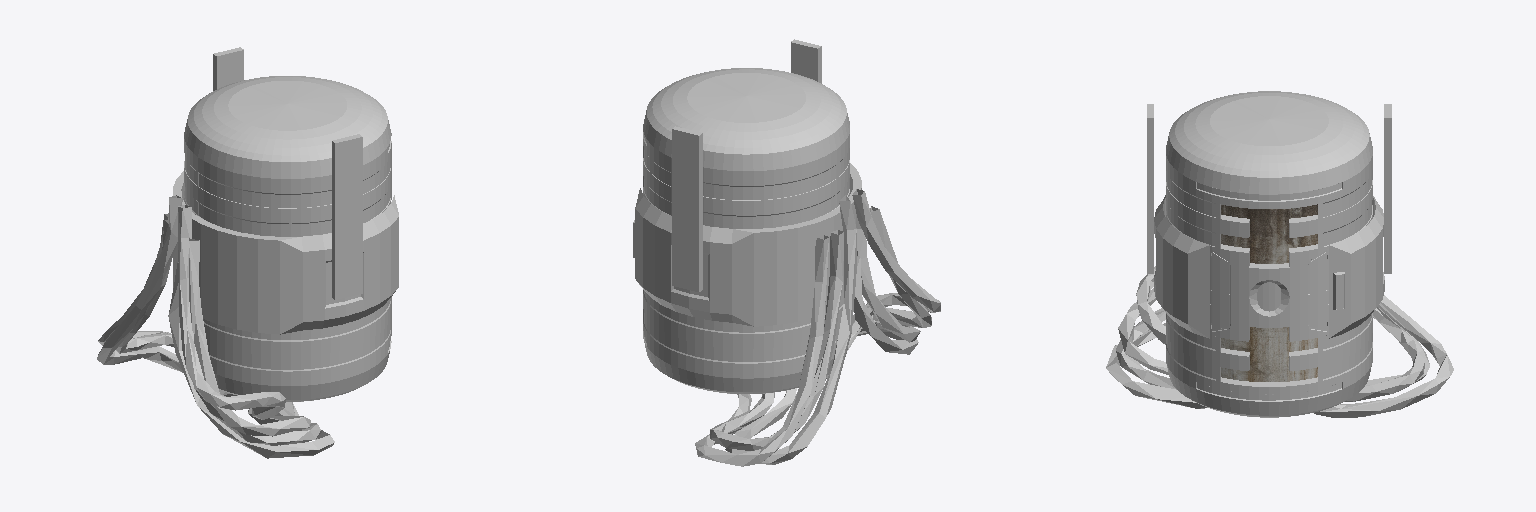
3 views of the same model, side by side, from view 1: azimuth 30°, elevation 25°; view 2: azimuth 150°, elevation 25°; view 3: azimuth 270°, elevation 25° (orthographic).
Visible parts, largest first — view 1: ShieldingCapsule_ShieldingCapsuleMesh, CircleSupport_CircleSupportMesh, VerticalSupport, Hosepipe3_HosepipeMesh3, Hosepipe4_HosepipeMesh4, Hosepipe2_HosepipeMesh2, Hosepipe0_HosepipeMesh0, Hosepipe5_HosepipeMesh5, Hosepipe1_HosepipeMesh1, Hosepipe6_HosepipeMesh6; view 2: ShieldingCapsule_ShieldingCapsuleMesh, CircleSupport_CircleSupportMesh, VerticalSupport, Hosepipe4_HosepipeMesh4, Hosepipe6_HosepipeMesh6, Hosepipe5_HosepipeMesh5, Hosepipe3_HosepipeMesh3, Hosepipe1_HosepipeMesh1, Hosepipe0_HosepipeMesh0, Hosepipe2_HosepipeMesh2; view 3: ShieldingCapsule_ShieldingCapsuleMesh, CircleSupport_CircleSupportMesh, HumanShield_HumanShieldMesh, Hosepipe6_HosepipeMesh6, VerticalSupport, Hosepipe5_HosepipeMesh5, Hosepipe0_HosepipeMesh0, Hosepipe2_HosepipeMesh2, Hosepipe1_HosepipeMesh1, Hosepipe3_HosepipeMesh3.
Boxes of the visible parts, x1,y1,x2,y2 form: ShieldingCapsule_ShieldingCapsuleMesh: [184, 76, 391, 401]; CircleSupport_CircleSupportMesh: [173, 171, 398, 334]; VerticalSupport: [213, 47, 362, 299]; Hosepipe3_HosepipeMesh3: [178, 205, 285, 419]; Hosepipe4_HosepipeMesh4: [97, 195, 236, 396]; Hosepipe2_HosepipeMesh2: [189, 238, 310, 436]; Hosepipe0_HosepipeMesh0: [168, 262, 334, 458]; Hosepipe5_HosepipeMesh5: [116, 220, 173, 353]; Hosepipe1_HosepipeMesh1: [194, 387, 321, 445]; Hosepipe6_HosepipeMesh6: [98, 213, 170, 345]; ShieldingCapsule_ShieldingCapsuleMesh: [643, 68, 849, 393]; CircleSupport_CircleSupportMesh: [635, 163, 861, 326]; VerticalSupport: [672, 39, 821, 291]; Hosepipe4_HosepipeMesh4: [725, 195, 856, 464]; Hosepipe6_HosepipeMesh6: [695, 235, 828, 466]; Hosepipe5_HosepipeMesh5: [710, 230, 843, 450]; Hosepipe3_HosepipeMesh3: [847, 189, 940, 350]; Hosepipe1_HosepipeMesh1: [857, 229, 920, 342]; Hosepipe0_HosepipeMesh0: [854, 256, 918, 354]; Hosepipe2_HosepipeMesh2: [826, 206, 931, 378]; ShieldingCapsule_ShieldingCapsuleMesh: [1166, 91, 1372, 417]; CircleSupport_CircleSupportMesh: [1154, 195, 1384, 338]; HumanShield_HumanShieldMesh: [1221, 204, 1317, 381]; Hosepipe6_HosepipeMesh6: [1314, 295, 1453, 417]; VerticalSupport: [1147, 104, 1391, 273]; Hosepipe5_HosepipeMesh5: [1345, 307, 1425, 401]; Hosepipe0_HosepipeMesh0: [1106, 323, 1206, 408]; Hosepipe2_HosepipeMesh2: [1118, 288, 1168, 374]; Hosepipe1_HosepipeMesh1: [1116, 308, 1176, 389]; Hosepipe3_HosepipeMesh3: [1136, 266, 1165, 344].
Size of the model in its own units: 3.11 by 4.03 by 4.03.
Materials: 3 (1 with a texture image).